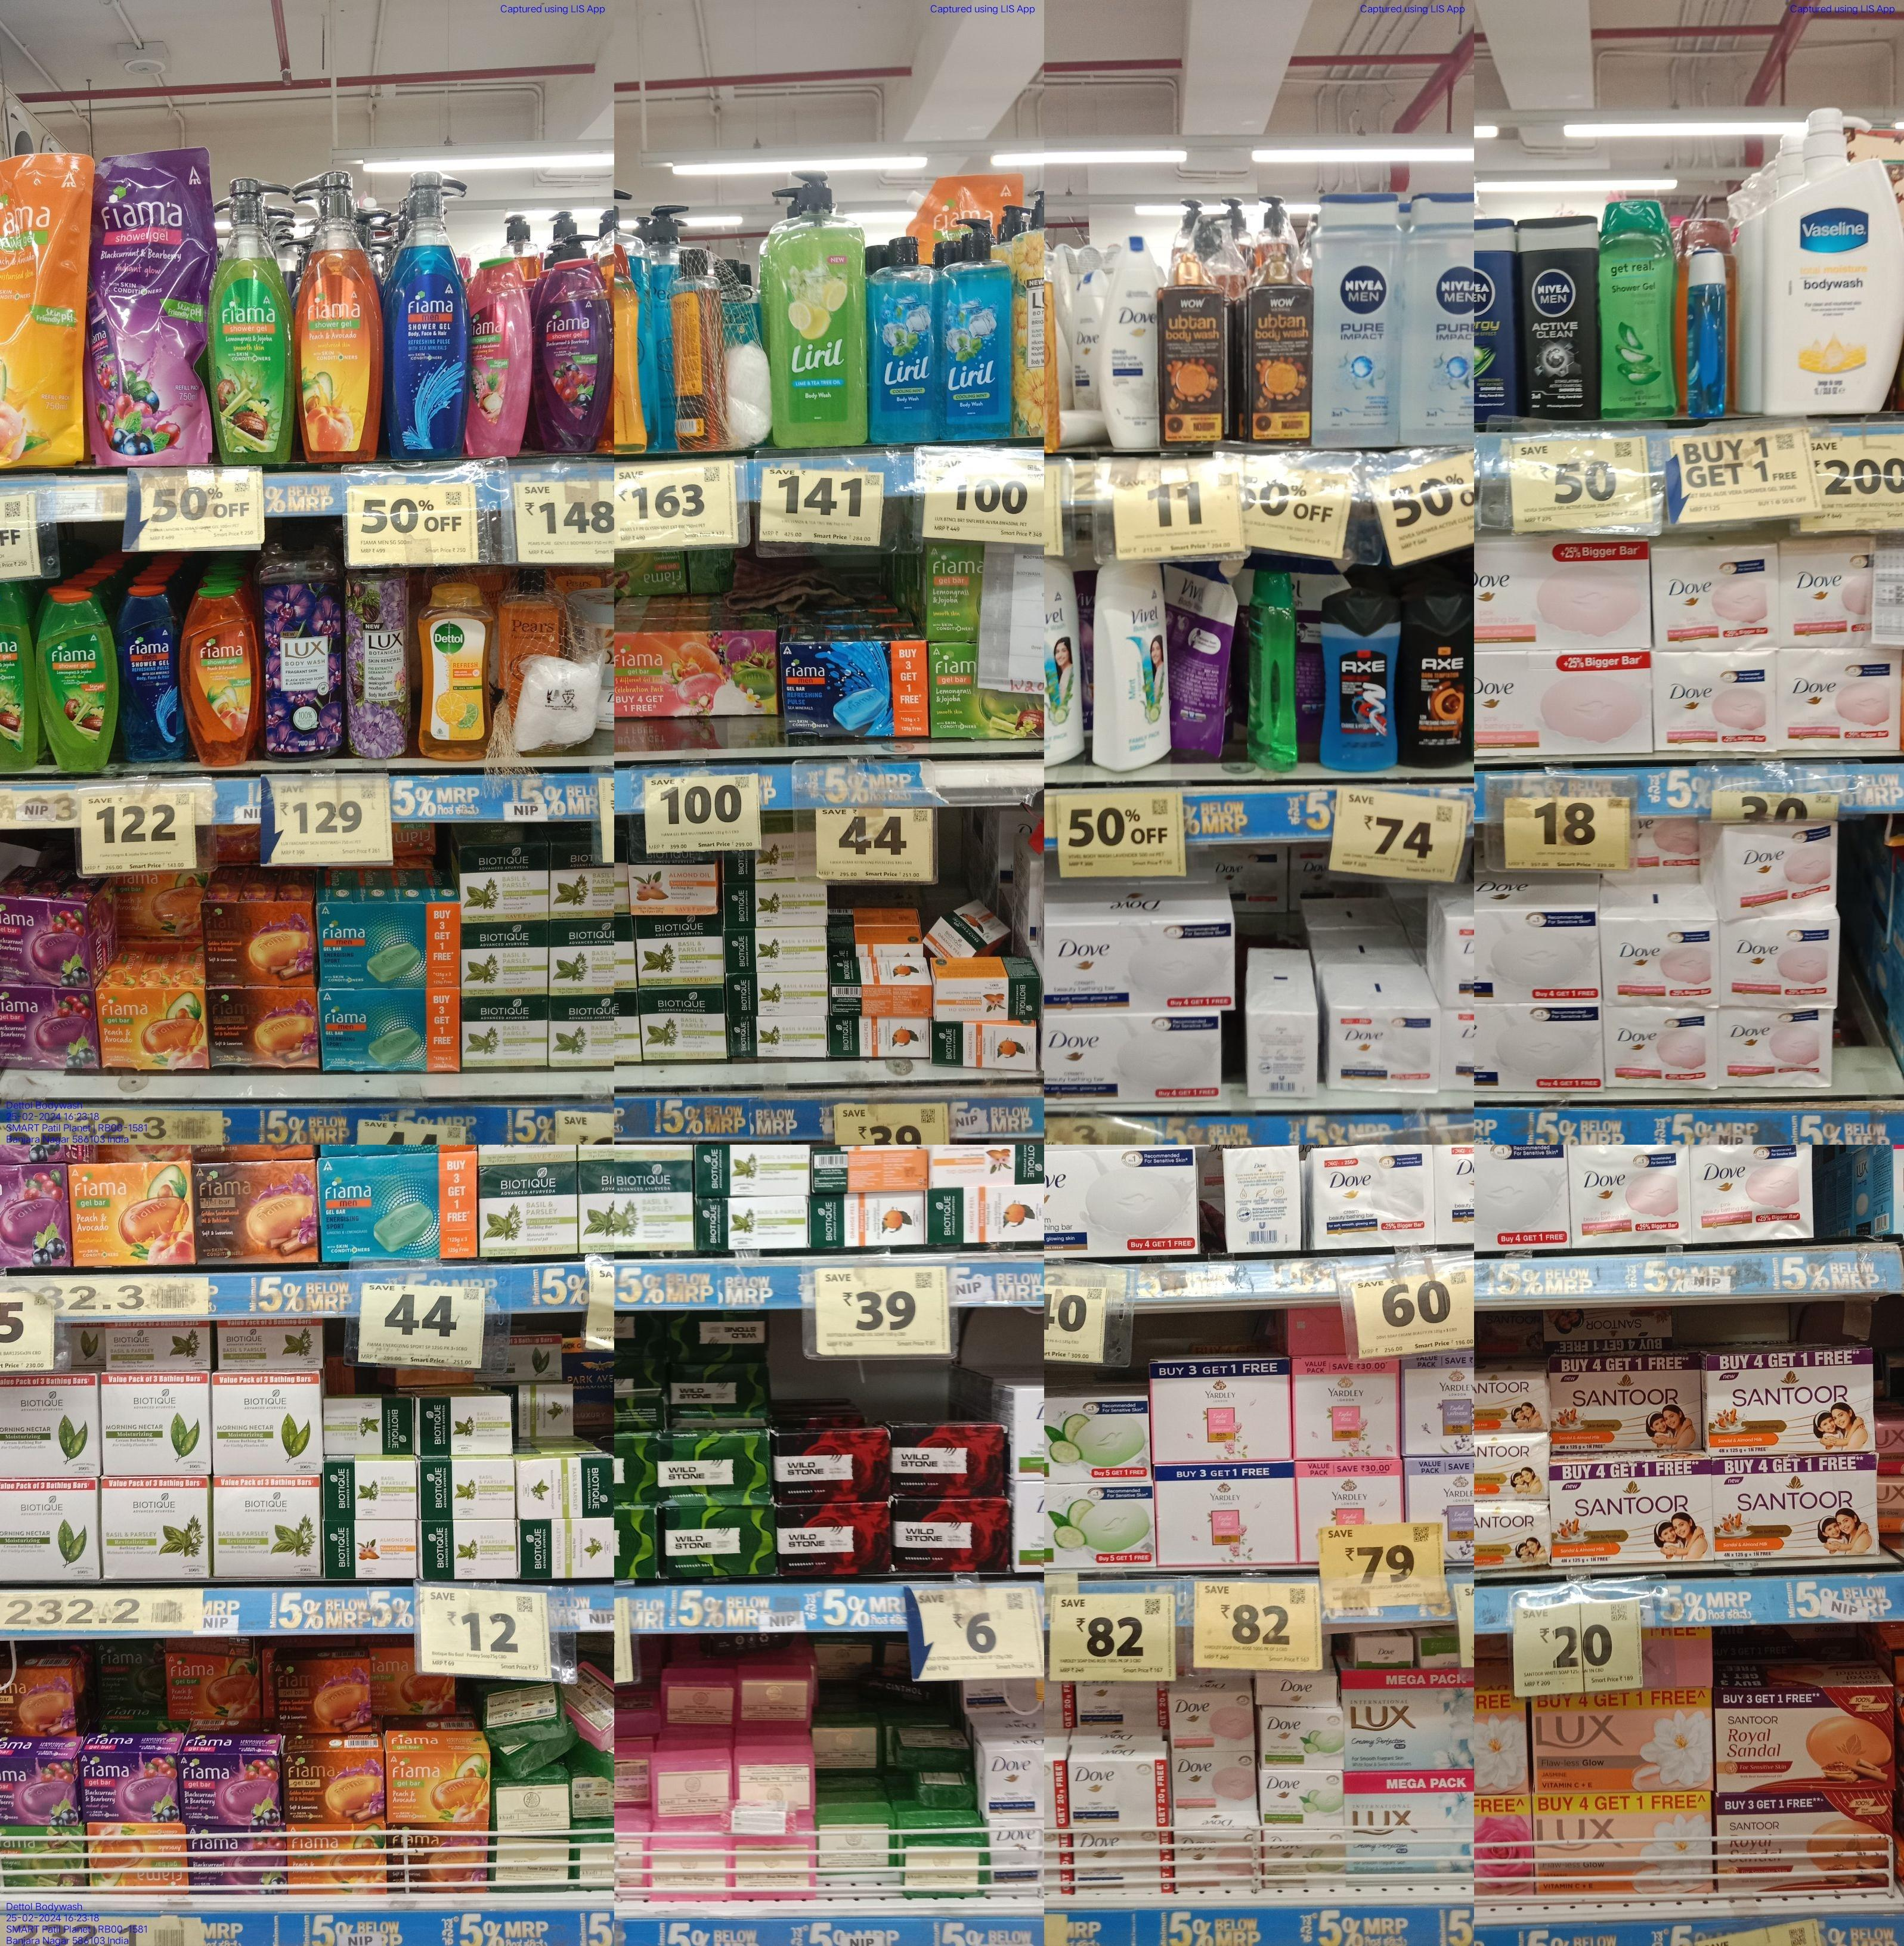Dettol_Bodywash_Refresh: (418, 584, 495, 759)
Fiama_Shower_Gel_Lemongrass_and_Jojoba_250ML: (37, 593, 120, 771)
Fiama_Shower_Gel_Peach_and_Avocado_250ML: (183, 586, 262, 764)
Liril_Cooling_Mint_Body_Wash_250ML: (865, 234, 947, 443)
